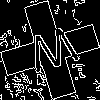W: (25, 25, 84, 83)
